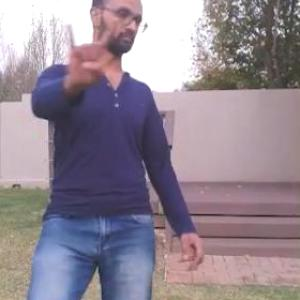takeoff-hand: (58, 8, 120, 103)
